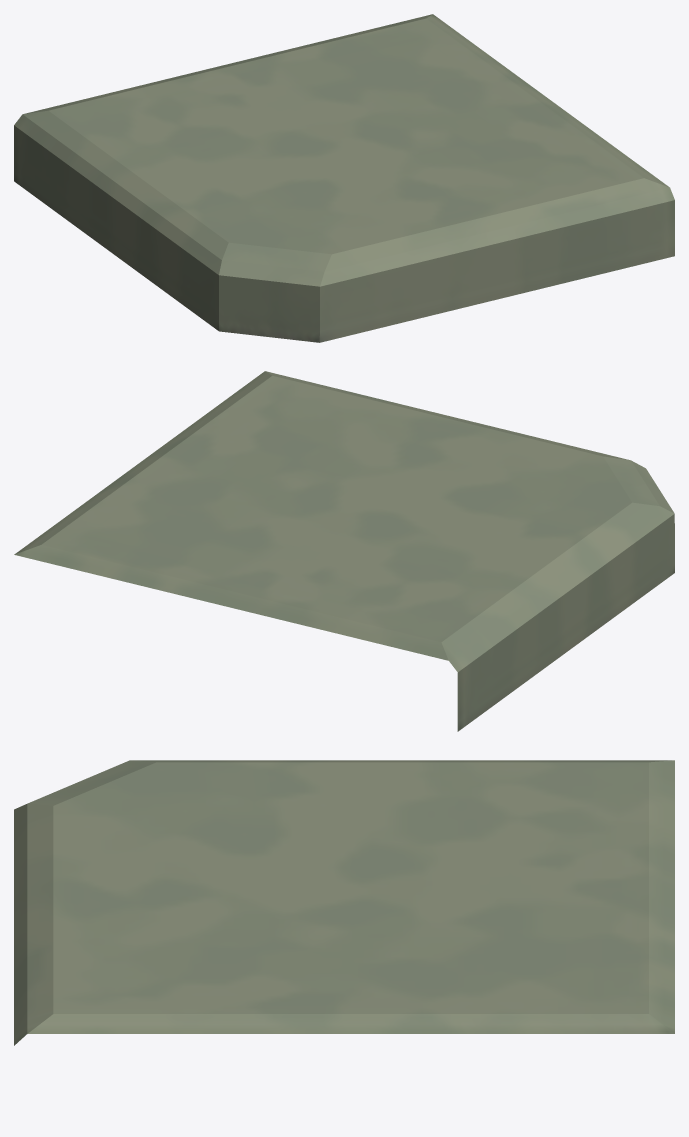
File: SideWalkCorner.fbx
3 views of the same model, one above another, from view 1: azimuth 30°, elevation 25°; view 2: azimuth 150°, elevation 25°; view 3: azimuth 270°, elevation 25° (orthographic). The views are drawn at different scales.
Parts seen in each view (by area): view 1: SidewalkCorner; view 2: SidewalkCorner; view 3: SidewalkCorner.
Boxes of the visible parts, x1,y1,x2,y2 form: SidewalkCorner: [14, 14, 674, 342]; SidewalkCorner: [14, 371, 674, 731]; SidewalkCorner: [14, 760, 674, 1045].
Bounding box in the file's own units: 200 × 32.62 × 200.
